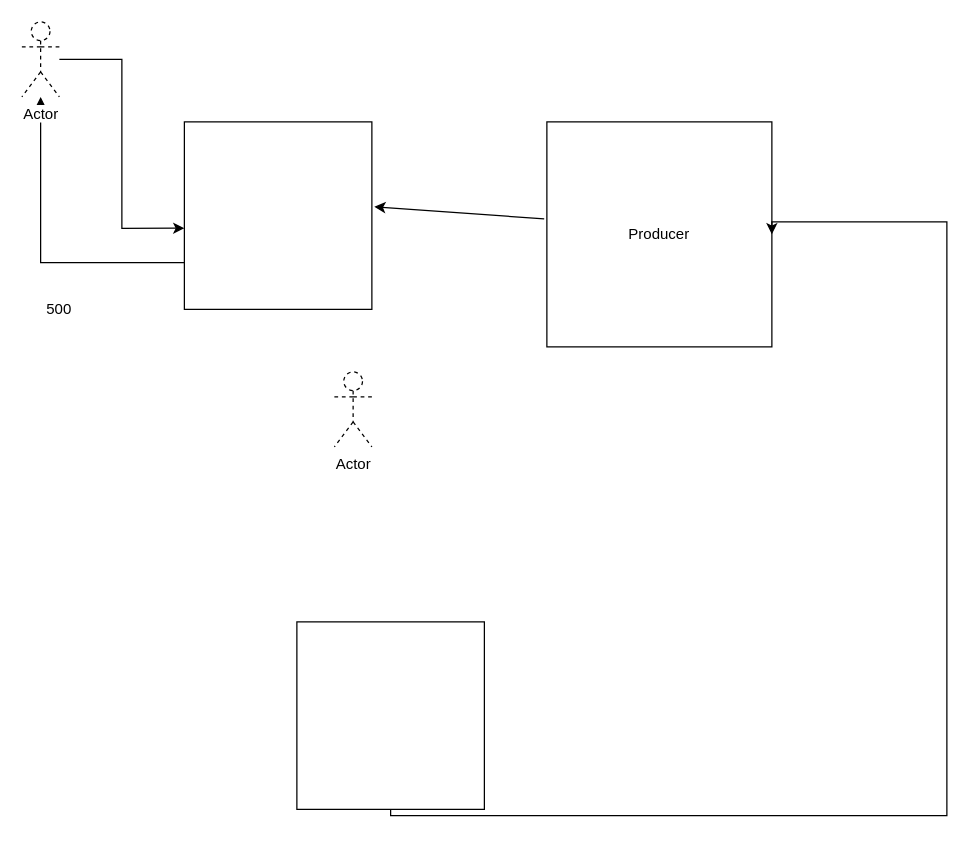
Some shapes in this 979 by 848 pixel diagram are drawn without their labels. Each missing label, with the centre of its shape:
3rd party: point (390, 715)
Consumer: point (277, 215)
